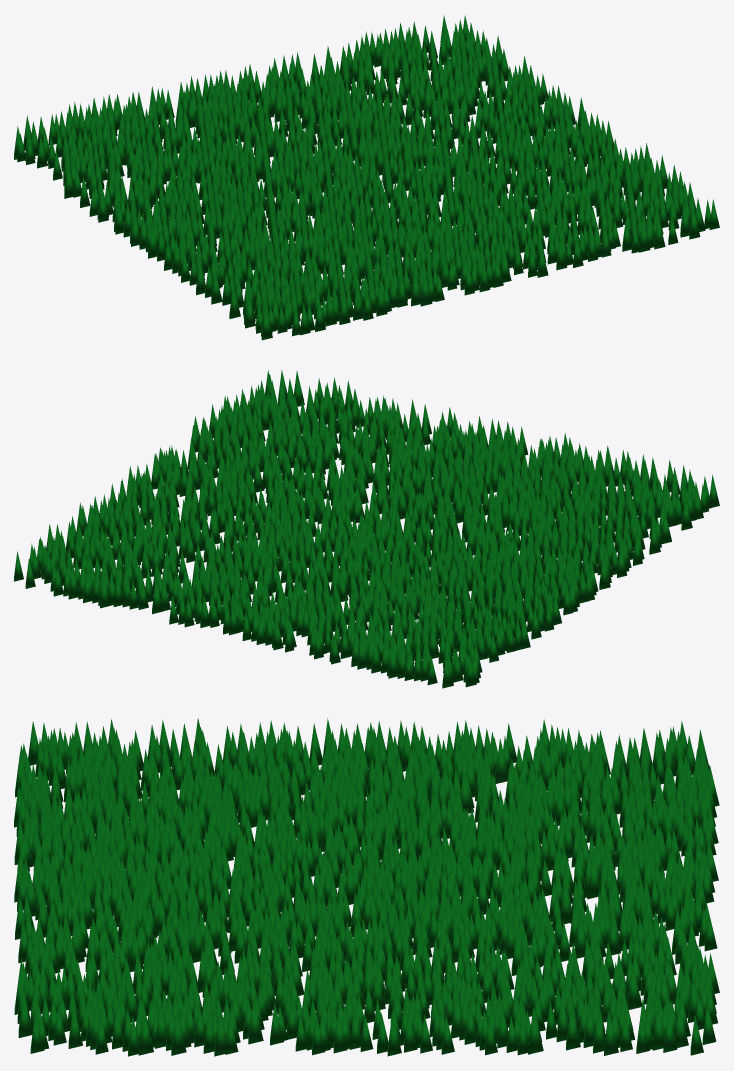
The model's file is lawn.gltf.
The picture shows the model from 3 angles, top to bottom: view 1: azimuth 30°, elevation 25°; view 2: azimuth 150°, elevation 25°; view 3: azimuth 270°, elevation 25°; orthographic projection. The views are drawn at different scales.
Bounding box in the file's own units: 13.77 × 0.9562 × 13.72.
